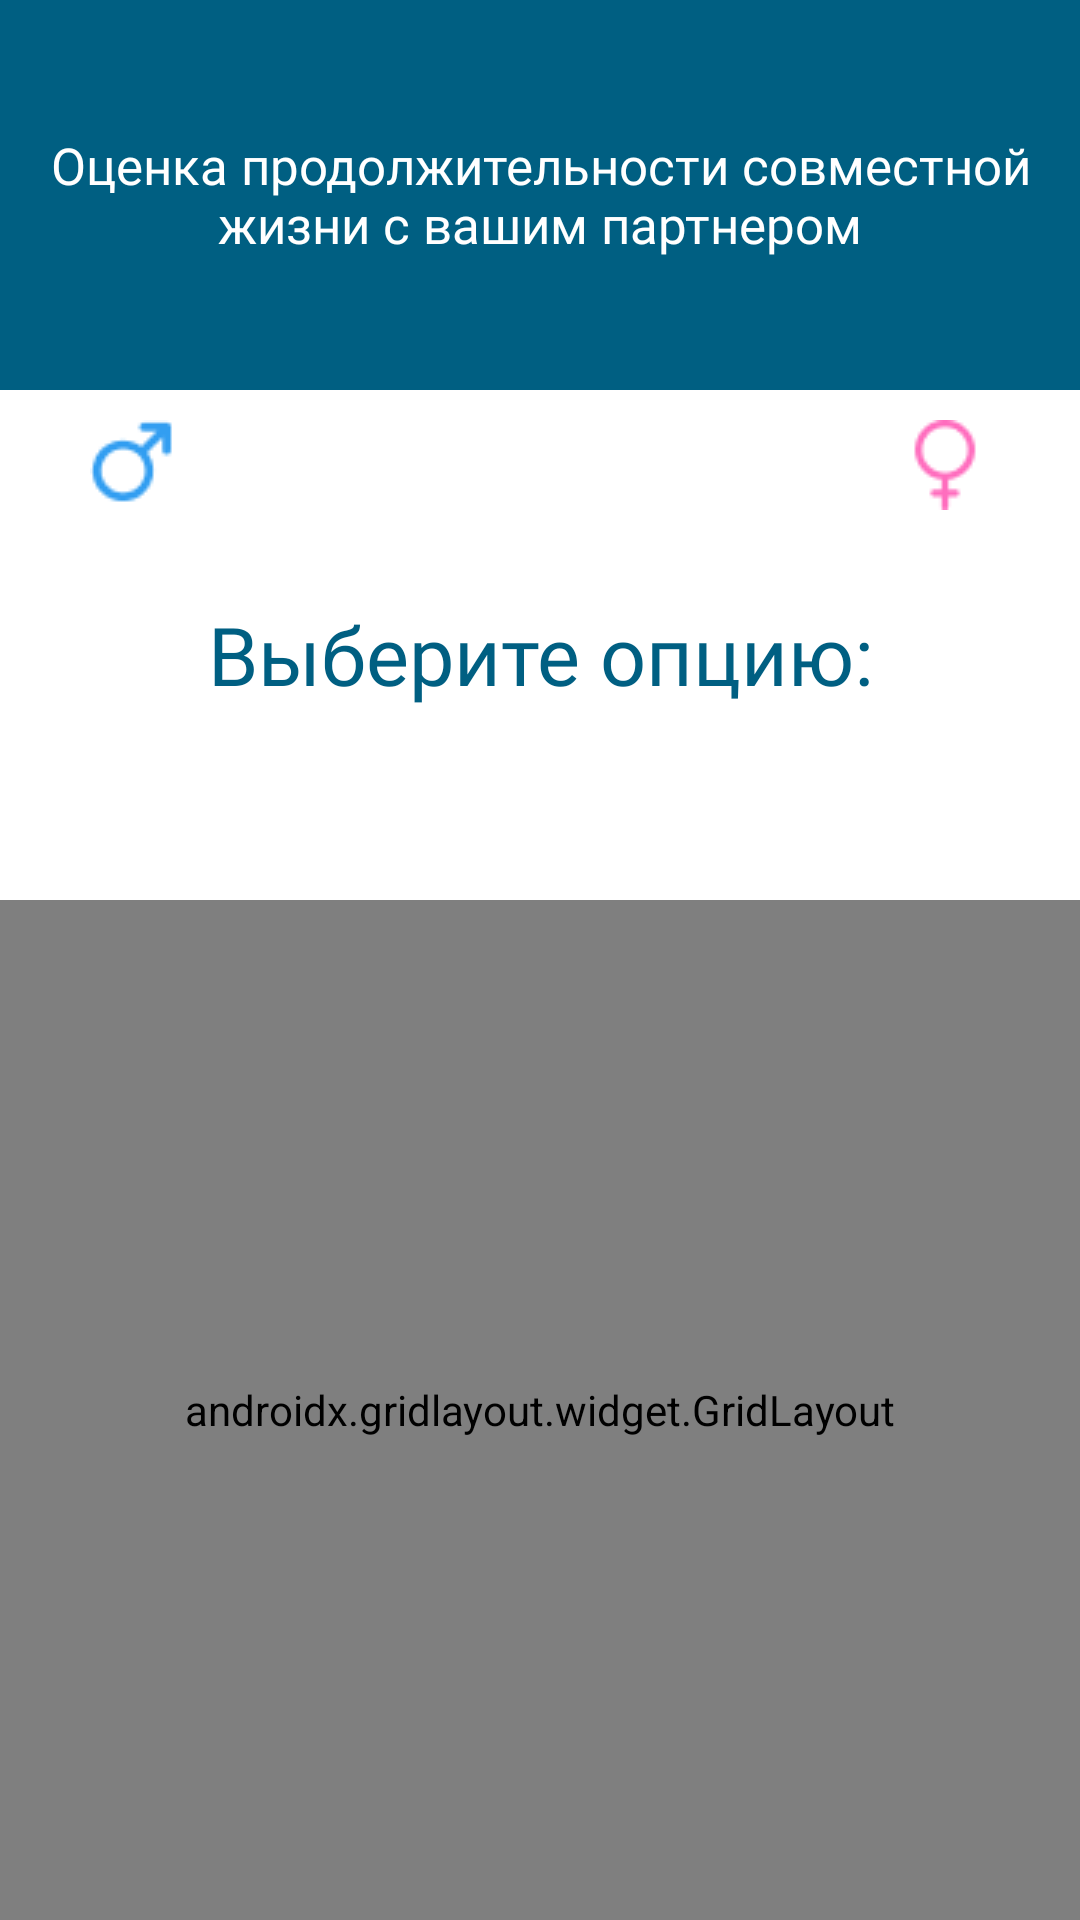

Screen size 1080x1920. Icon name, then its box in pixels as (x1=x1, y1=y1, x2=x2, y2=y2):
female: (x1=914, y1=420, x2=976, y2=510)
male: (x1=92, y1=422, x2=172, y2=502)
